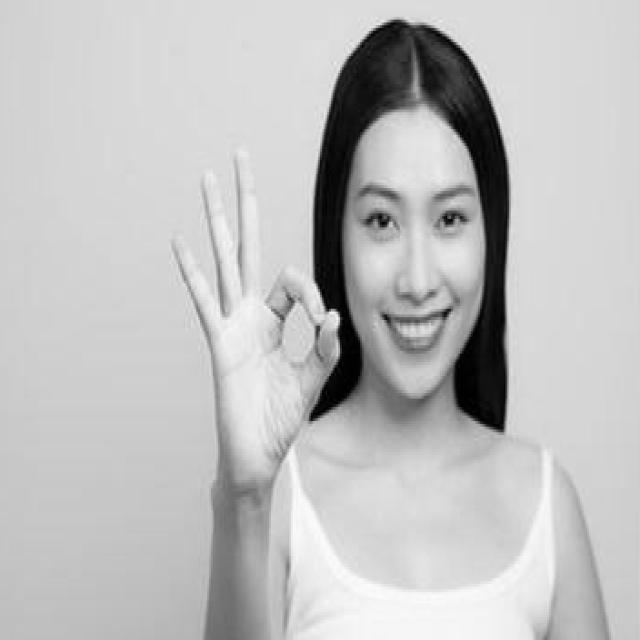perfect: (166, 140, 344, 506)
